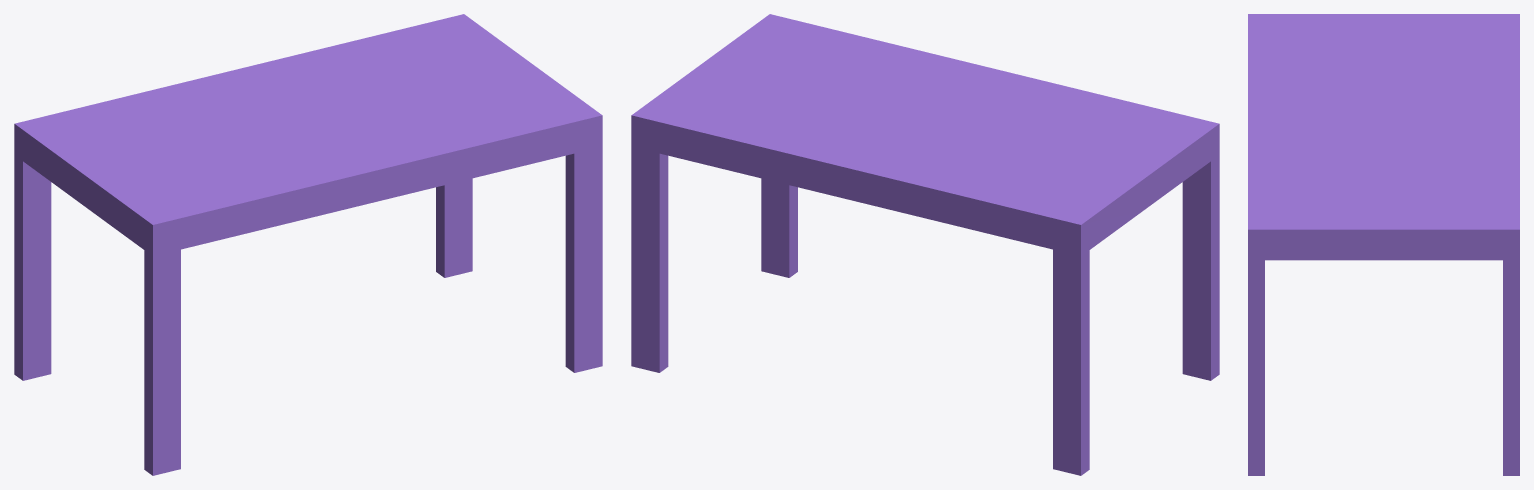
Rendered from tableLaas.dae.
3 views of the same model, side by side, from view 1: azimuth 30°, elevation 25°; view 2: azimuth 150°, elevation 25°; view 3: azimuth 270°, elevation 25° (orthographic).
Visible parts, largest first — view 1: Cube; view 2: Cube; view 3: Cube.
Part boxes in pixels (bbox=[...]): Cube: bbox=[14, 14, 602, 475]; Cube: bbox=[631, 14, 1219, 475]; Cube: bbox=[1248, 14, 1519, 475].
Size of the model in its own units: 150 by 80 by 80.
